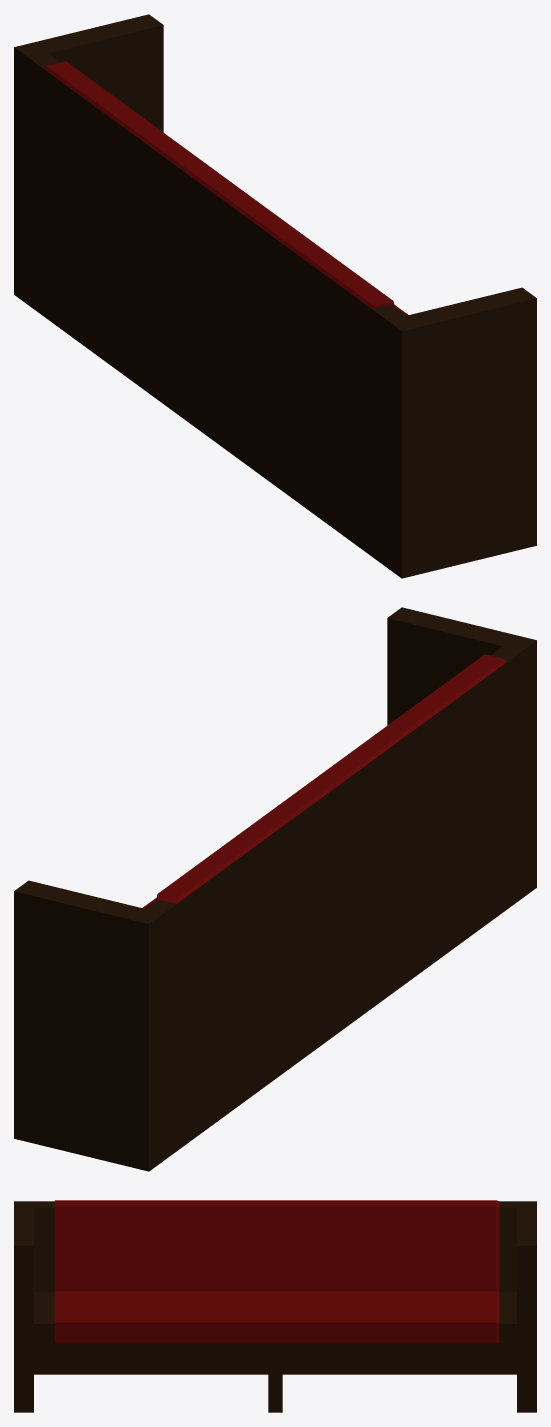
File: ChurchBench.fbx
The picture shows the model from 3 angles, top to bottom: view 1: azimuth 30°, elevation 25°; view 2: azimuth 150°, elevation 25°; view 3: azimuth 270°, elevation 25°; orthographic projection. The views are drawn at different scales.
Parts seen in each view (by area): view 1: Cube; view 2: Cube; view 3: Cube.
Part boxes in pixels (x1,y1,x2,y2): Cube: (14,14,536,578); Cube: (14,607,536,1171); Cube: (14,1200,536,1412).
Bounding box in the file's own units: 238 × 414 × 1163.
